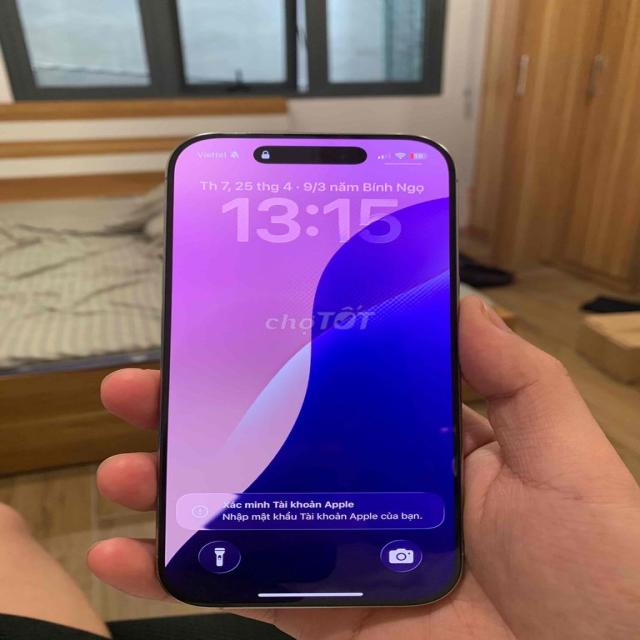gen_16: (156, 133, 462, 608)
